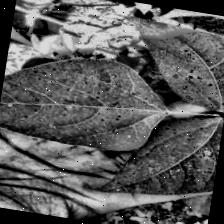ALS: (0, 42, 174, 159), (117, 16, 224, 110), (129, 108, 224, 201)
